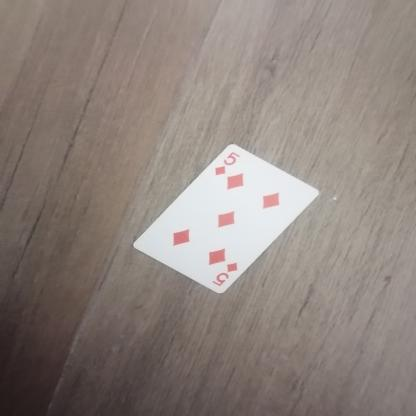5D: (212, 151, 244, 178)
